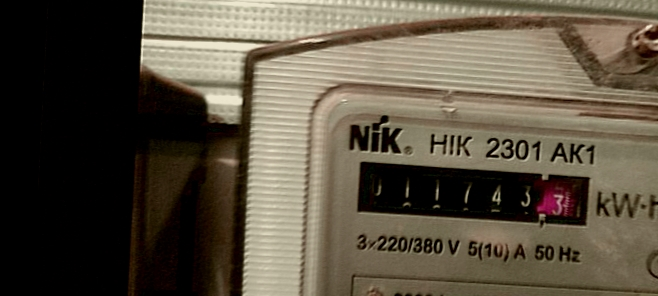0: (370, 170, 385, 199)
1: (431, 173, 444, 202), (402, 172, 413, 199)
3: (519, 181, 535, 209), (550, 192, 565, 217)
4: (490, 179, 505, 207)
7: (460, 175, 476, 204)
screen: (346, 150, 603, 237)
